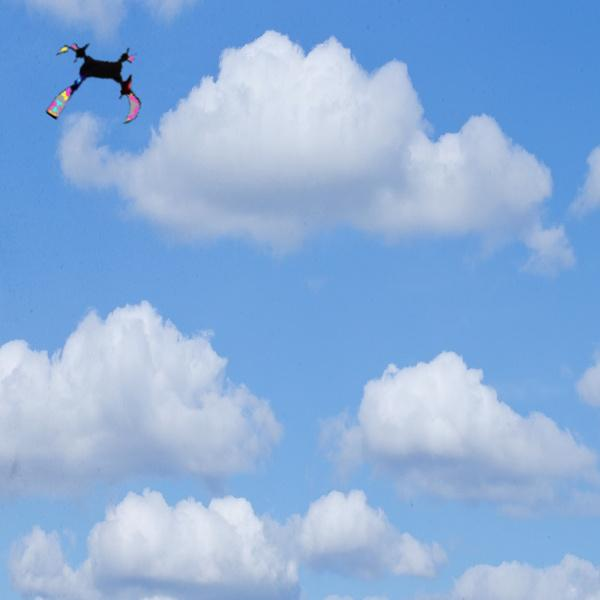drone: (45, 31, 153, 139)
